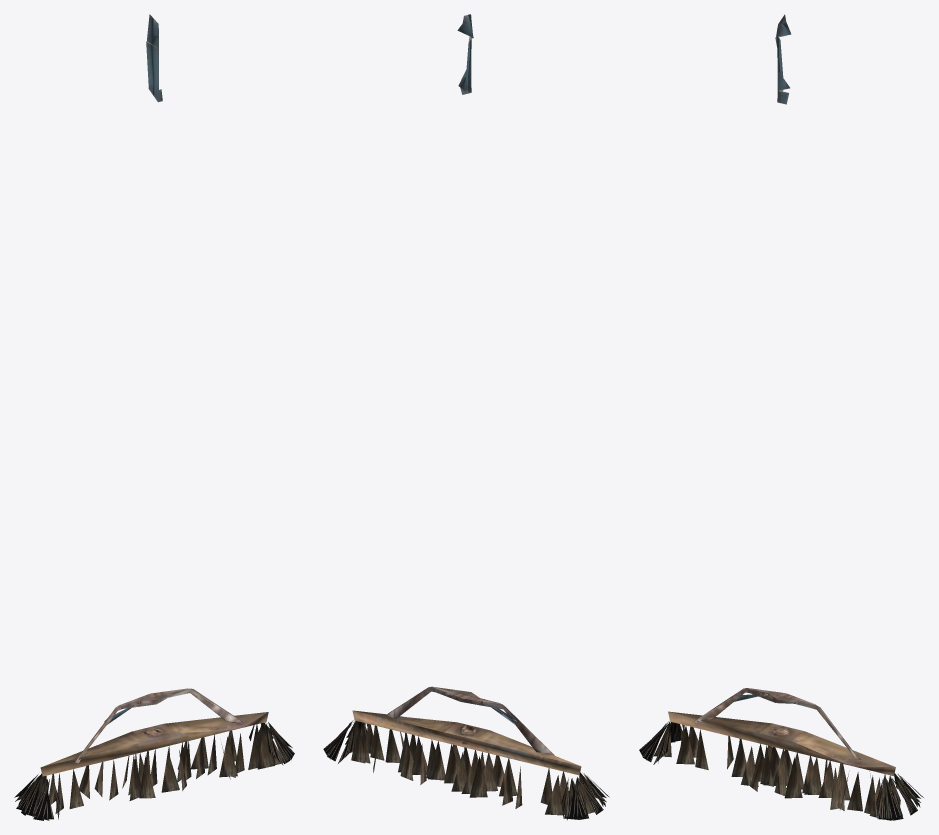
Rendered from wooden_broom.glb.
3 renders of one model, left to right at view 1: azimuth 30°, elevation 25°; view 2: azimuth 150°, elevation 25°; view 3: azimuth 330°, elevation 25°, orthographic.
Parts seen in each view (by area): view 1: wooden_broom, wooden_broom_bristles, wooden_broom_handle; view 2: wooden_broom, wooden_broom_bristles, wooden_broom_handle; view 3: wooden_broom, wooden_broom_bristles, wooden_broom_handle.
Part boxes in pixels (x1,y1,x2,y2): wooden_broom: (34,688,283,820); wooden_broom_bristles: (14,722,294,820); wooden_broom_handle: (146,14,162,102); wooden_broom: (350,686,594,820); wooden_broom_bristles: (323,720,609,819); wooden_broom_handle: (457,14,473,94); wooden_broom: (654,688,902,820); wooden_broom_bristles: (639,721,923,820); wooden_broom_handle: (775,14,791,104).
Bounding box in the file's own units: 0.4902 × 1.34 × 0.1038.
Materials: 2 (2 with a texture image).
